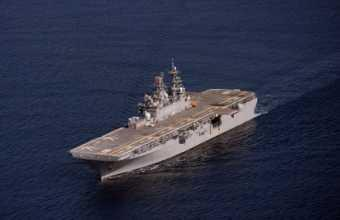warship: (68, 57, 258, 181)
